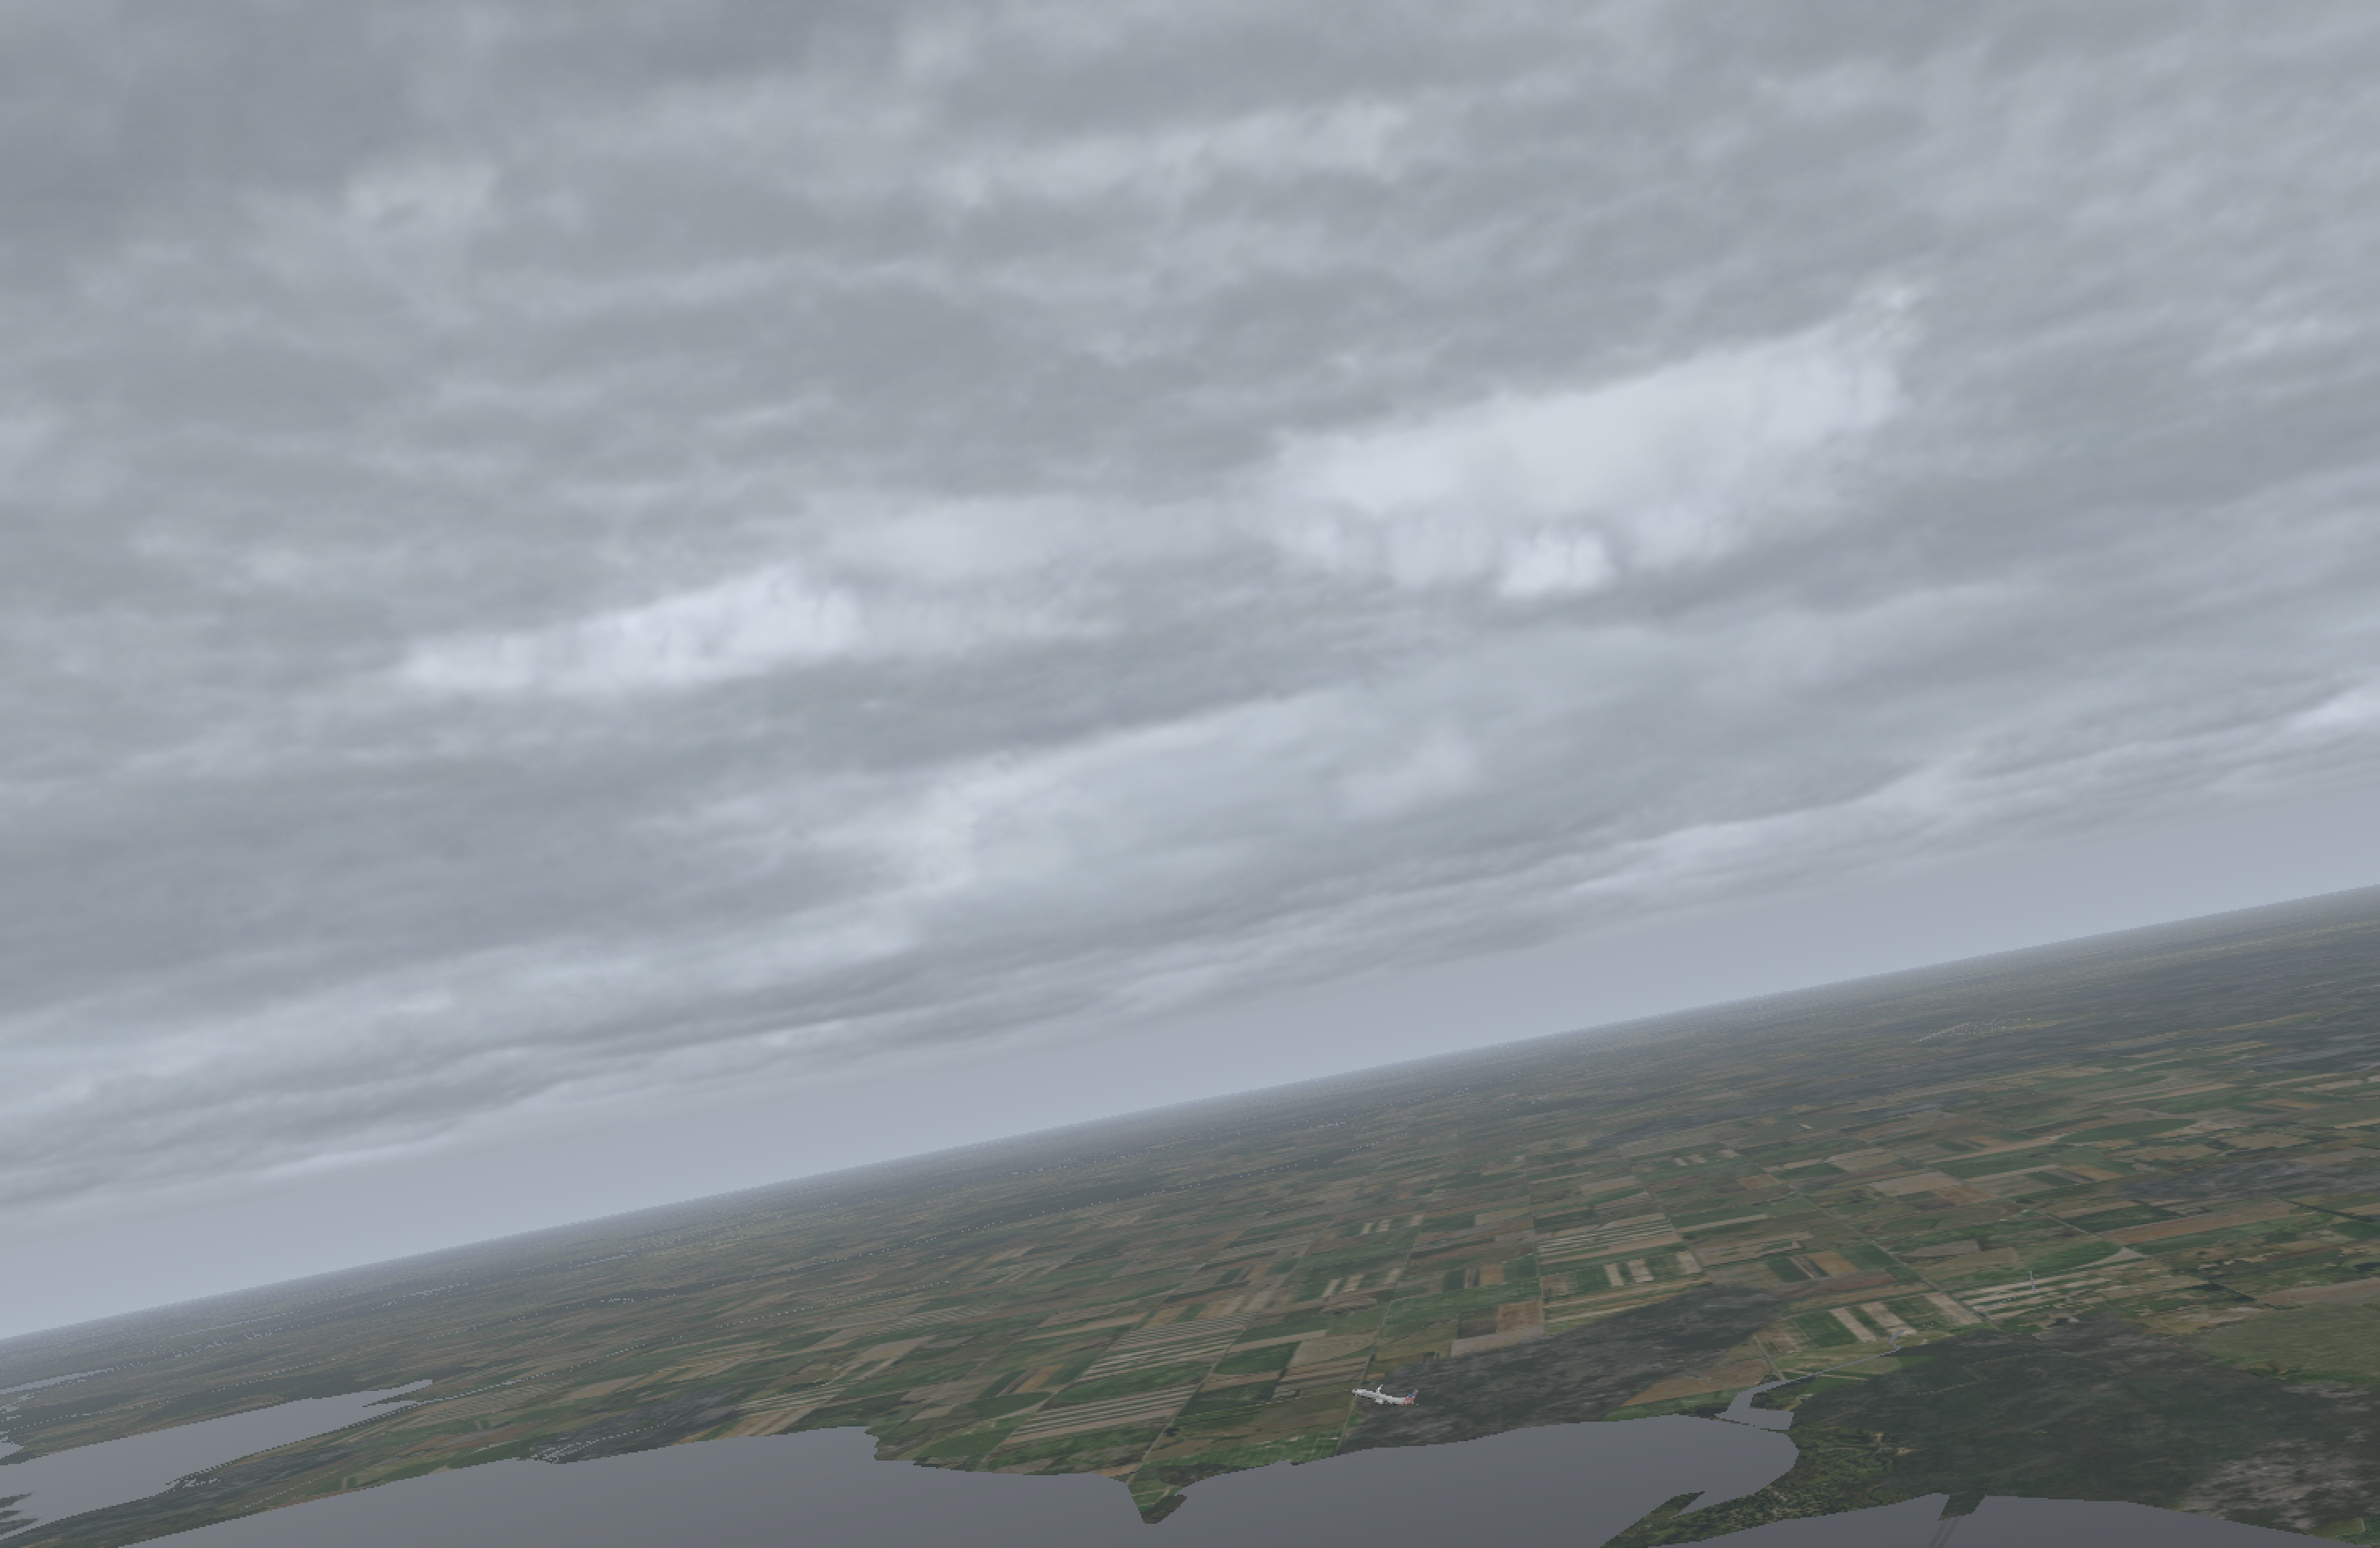aircraft: (1346, 1387, 1416, 1411)
